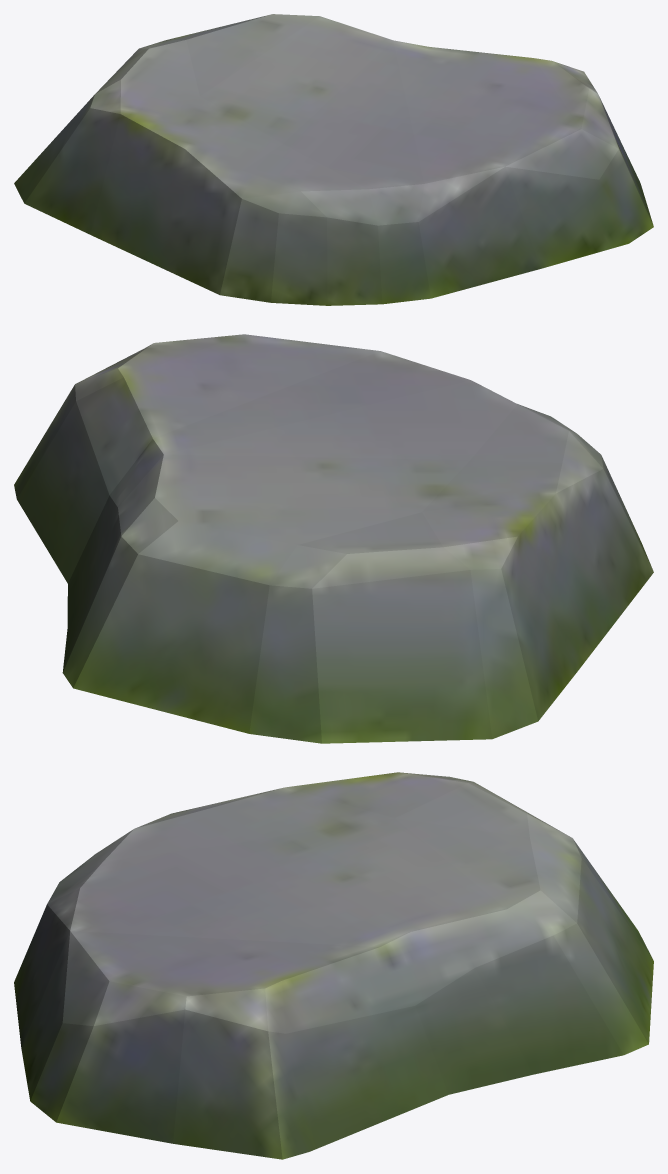
File: pebble_round_2.glb
3 renders of one model, top to bottom at view 1: azimuth 30°, elevation 25°; view 2: azimuth 150°, elevation 25°; view 3: azimuth 270°, elevation 25°, orthographic. The views are drawn at different scales.
Parts seen in each view (by area): view 1: Pebble_Round_2; view 2: Pebble_Round_2; view 3: Pebble_Round_2.
Part boxes in pixels (box(x1,y1,x2,y2)): Pebble_Round_2: box(14, 14, 653, 305); Pebble_Round_2: box(14, 334, 653, 743); Pebble_Round_2: box(14, 772, 653, 1159).
Bounding box in the file's own units: 0.4495 × 0.0942 × 0.4111.
Materials: 1 (1 with a texture image).
